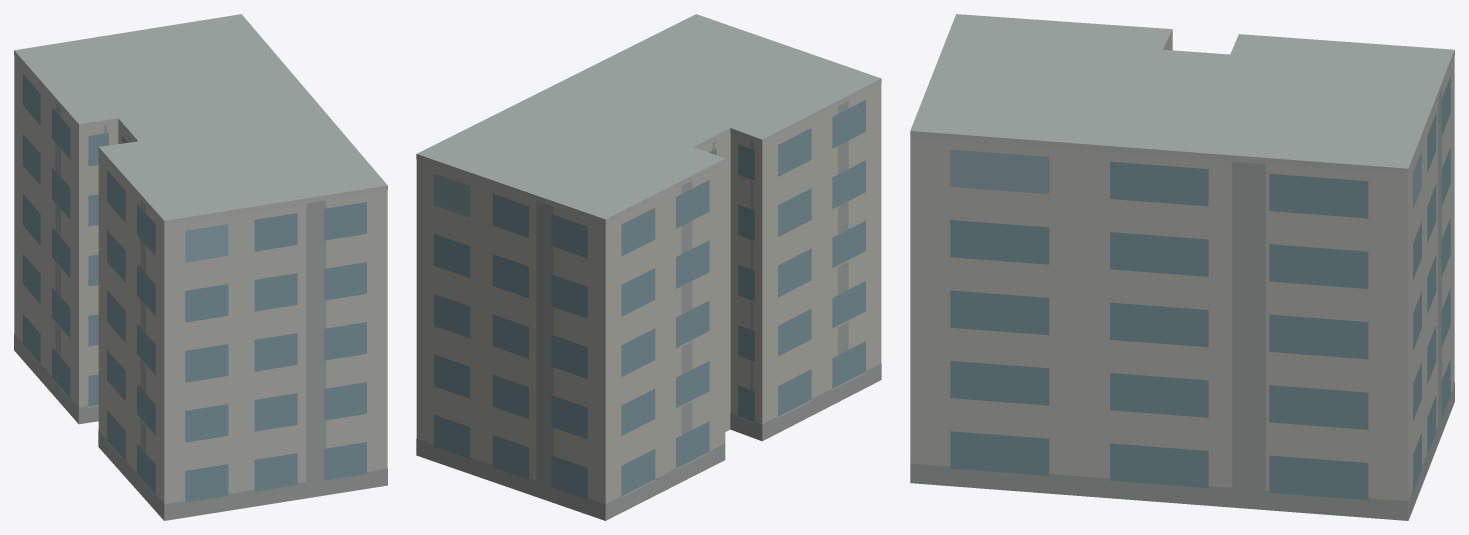
File: survey-upis-32636332.glb
3 views of the same model, side by side, from view 1: azimuth 30°, elevation 25°; view 2: azimuth 150°, elevation 25°; view 3: azimuth 270°, elevation 25° (orthographic). The views are drawn at different scales.
Parts seen in each view (by area): view 1: survey-upis-32636332.tmp; view 2: survey-upis-32636332.tmp; view 3: survey-upis-32636332.tmp.
Part boxes in pixels (x1,y1,x2,y2): survey-upis-32636332.tmp: (14, 14, 387, 520); survey-upis-32636332.tmp: (416, 14, 881, 520); survey-upis-32636332.tmp: (910, 14, 1454, 520).
Size of the model in its own units: 13.02 by 13.82 by 19.37.
